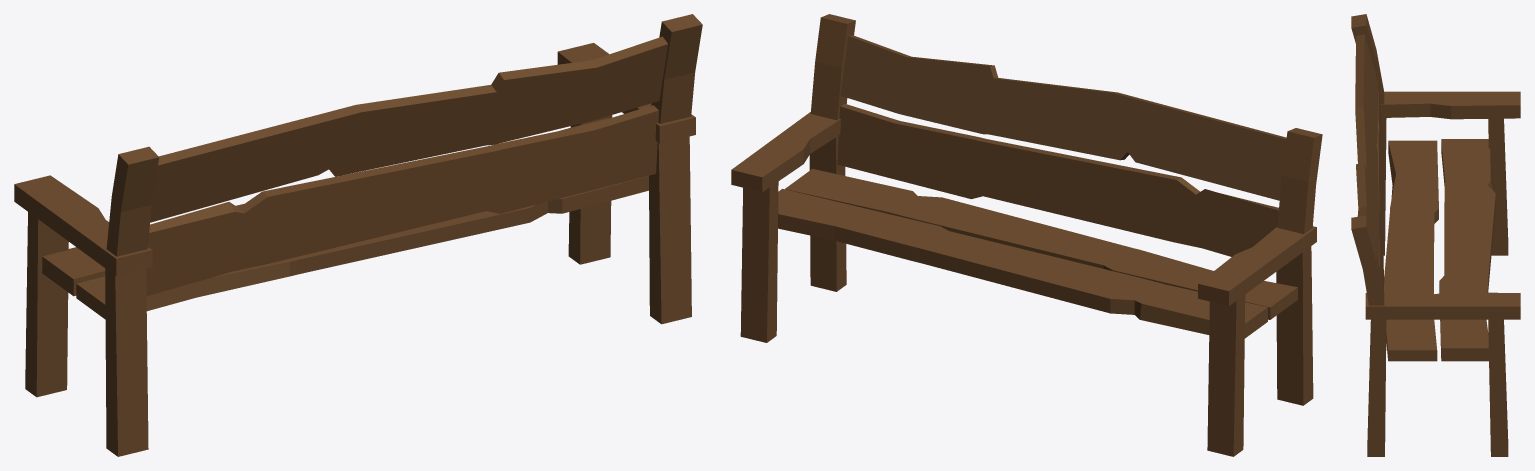
The model's file is wooden_bench.glb.
3 views of the same model, side by side, from view 1: azimuth 30°, elevation 25°; view 2: azimuth 150°, elevation 25°; view 3: azimuth 270°, elevation 25° (orthographic). The views are drawn at different scales.
Parts seen in each view (by area): view 1: Bench_1; view 2: Bench_1; view 3: Bench_1.
Part boxes in pixels (x1,y1,x2,y2): Bench_1: [14, 14, 702, 456]; Bench_1: [731, 14, 1322, 456]; Bench_1: [1351, 14, 1520, 456].
Size of the model in its own units: 3 by 1.5 by 0.9999.
